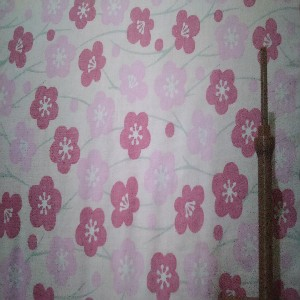obeng: (253, 47, 276, 300)
